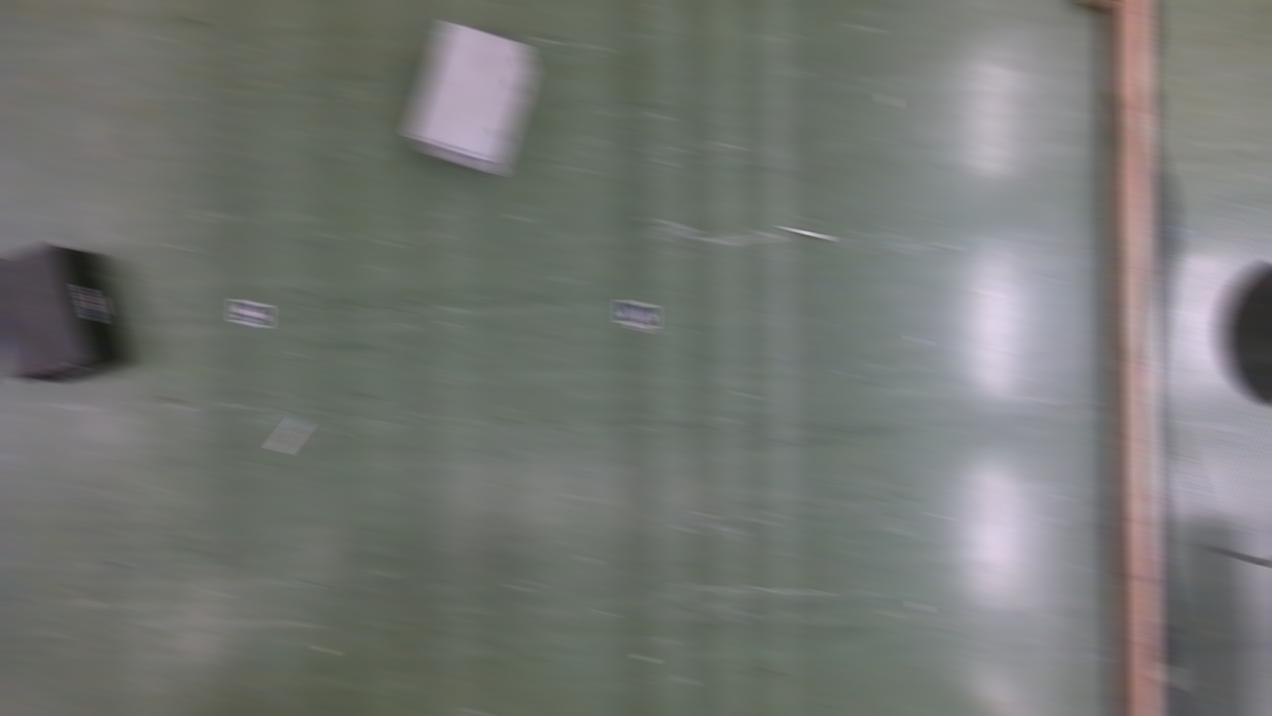probes: (272, 420, 308, 454), (784, 226, 832, 240)
rako: (406, 22, 536, 178), (0, 244, 131, 383)
